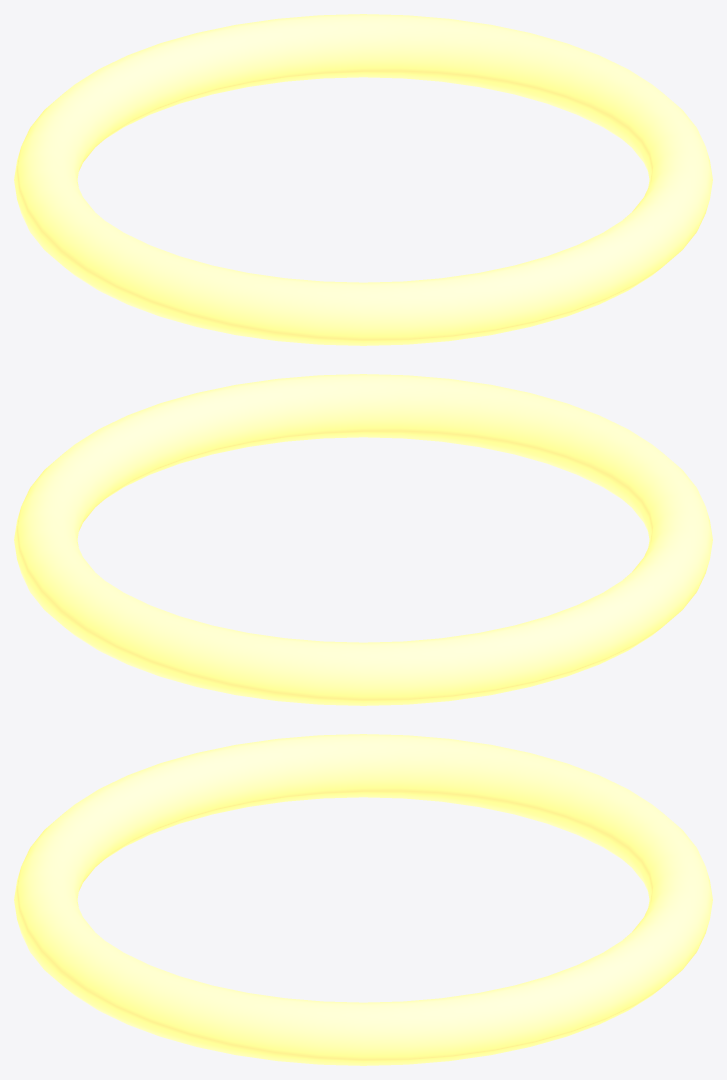
Rendered from Halo.fbx.
3 views of the same model, one above another, from view 1: azimuth 30°, elevation 25°; view 2: azimuth 150°, elevation 25°; view 3: azimuth 270°, elevation 25° (orthographic).
Parts seen in each view (by area): view 1: 0.Halo; view 2: 0.Halo; view 3: 0.Halo.
Boxes of the visible parts, x1,y1,x2,y2 form: 0.Halo: (14, 14, 712, 345); 0.Halo: (14, 374, 712, 705); 0.Halo: (14, 734, 712, 1065).
Bounding box in the file's own units: 125 × 11.38 × 125.
